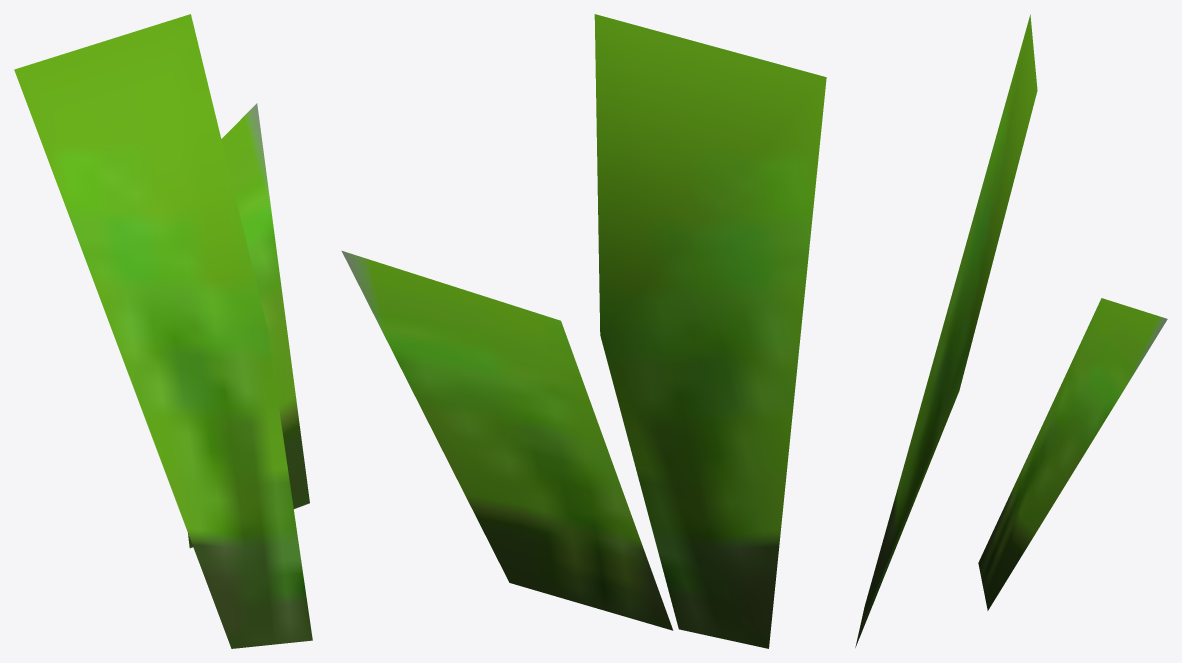
File: fg_grassA.dae
The picture shows the model from 3 angles, left to right: view 1: azimuth 30°, elevation 25°; view 2: azimuth 150°, elevation 25°; view 3: azimuth 270°, elevation 25°; orthographic projection. The views are drawn at different scales.
Visible parts, largest first — view 1: fg_grassA; view 2: fg_grassA; view 3: fg_grassA.
Part boxes in pixels (<box>): fg_grassA: <box>14,14,312,648</box>; fg_grassA: <box>341,14,826,648</box>; fg_grassA: <box>855,14,1167,647</box>.
Size of the model in its own units: 11.97 by 20.54 by 10.68.
Materials: 1 (1 with a texture image).
